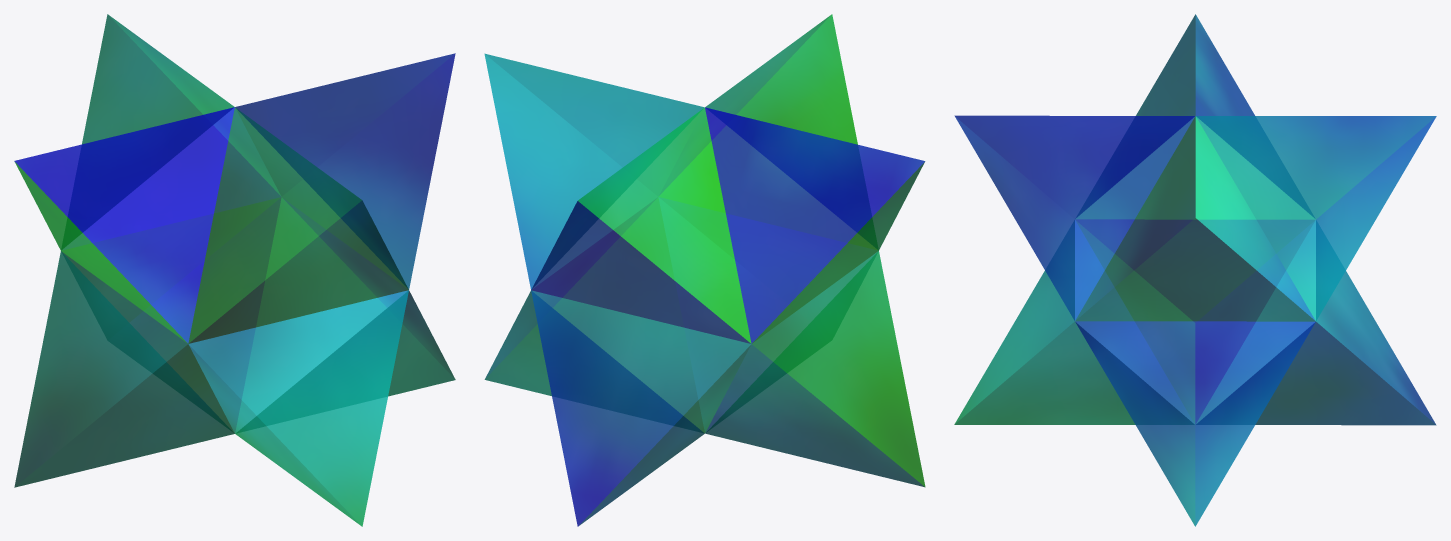
3 views of the same model, side by side, from view 1: azimuth 30°, elevation 25°; view 2: azimuth 150°, elevation 25°; view 3: azimuth 270°, elevation 25° (orthographic). The views are drawn at different scales.
Parts seen in each view (by area): view 1: obj1; view 2: obj1; view 3: obj1.
Boxes of the visible parts, <box> form: obj1: <box>14,14,455,526</box>; obj1: <box>484,14,925,526</box>; obj1: <box>954,14,1436,526</box>.
Size of the model in its own units: 180 by 127 by 180.
1 material, 1 textured.
